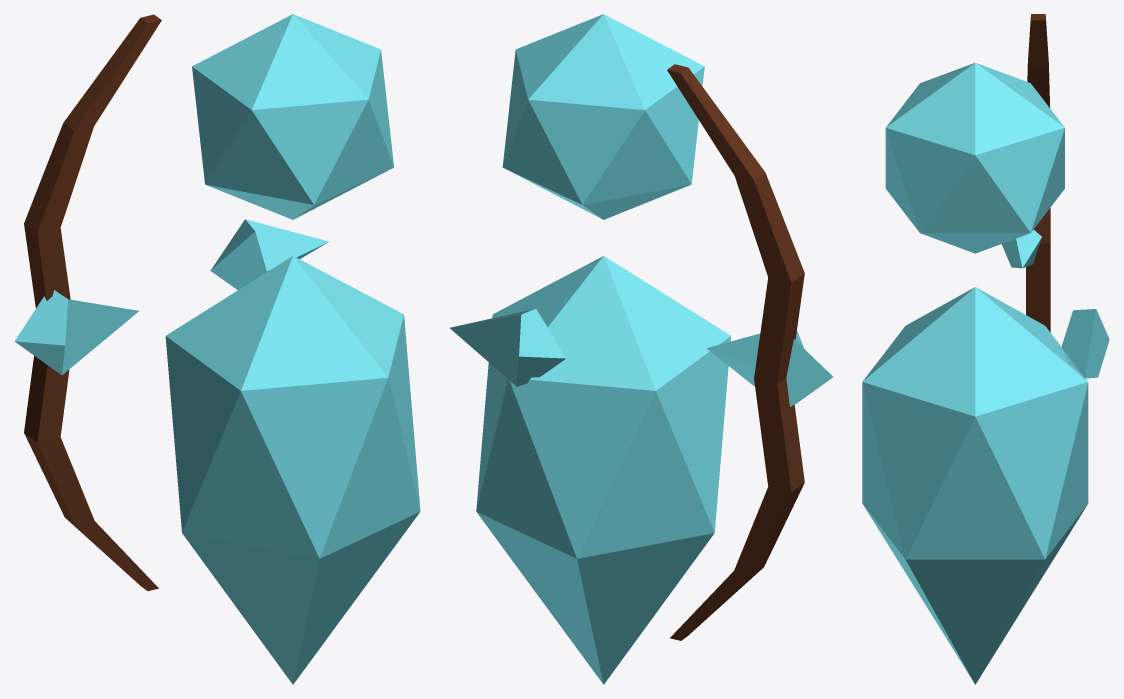
Rendered from Archer.fbx.
3 views of the same model, side by side, from view 1: azimuth 30°, elevation 25°; view 2: azimuth 150°, elevation 25°; view 3: azimuth 270°, elevation 25° (orthographic). The views are drawn at different scales.
Visible parts, largest first — view 1: archer_body, archer_head, archer_bow, archer_righthand; view 2: archer_body, archer_head, archer_bow, archer_righthand; view 3: archer_body, archer_head, archer_bow, archer_righthand.
Boxes of the visible parts, left/top/right/bottom form: archer_body: left=165, top=256, right=420, bottom=684; archer_head: left=192, top=14, right=393, bottom=219; archer_bow: left=14, top=14, right=161, bottom=590; archer_righthand: left=210, top=219, right=328, bottom=289; archer_body: left=476, top=256, right=730, bottom=684; archer_head: left=502, top=14, right=704, bottom=219; archer_bow: left=667, top=64, right=832, bottom=640; archer_righthand: left=449, top=308, right=566, bottom=386; archer_body: left=862, top=287, right=1088, bottom=684; archer_head: left=885, top=62, right=1064, bottom=253; archer_bow: left=1001, top=14, right=1050, bottom=332; archer_righthand: left=1061, top=309, right=1109, bottom=378.
Size of the model in its own units: 561 by 985 by 355.
